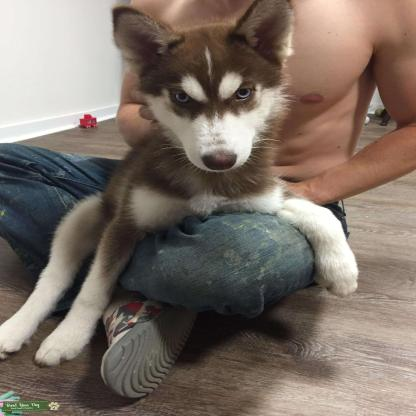dog: (1, 0, 358, 373)
